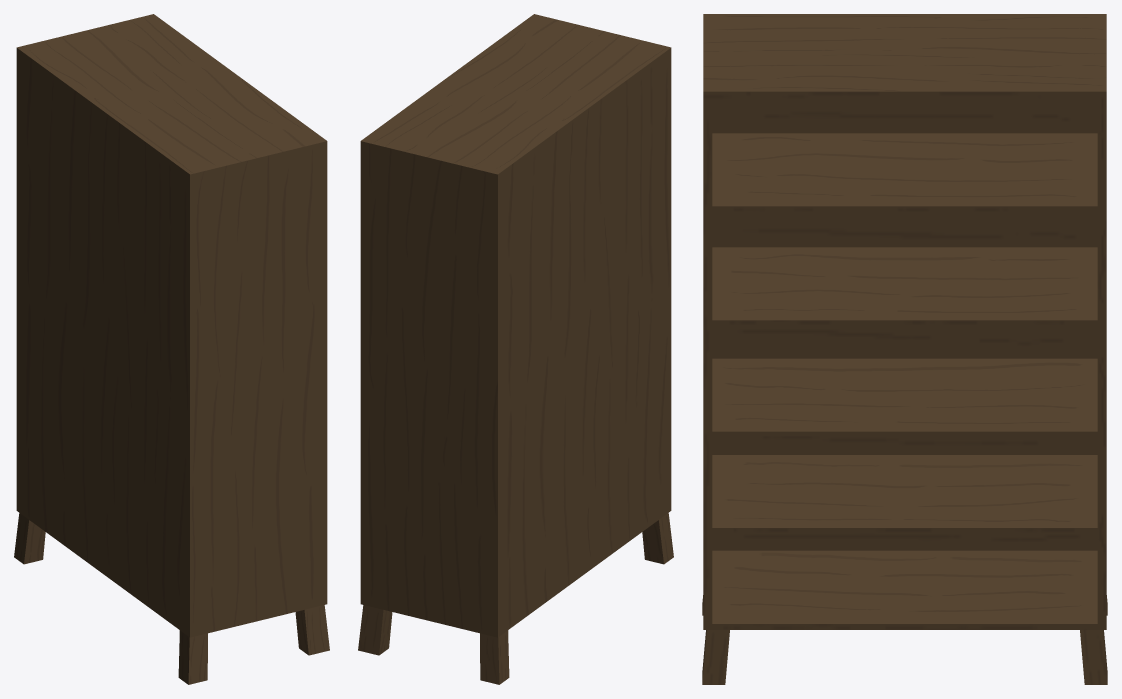
File: Wardrobe2.fbx
3 views of the same model, side by side, from view 1: azimuth 30°, elevation 25°; view 2: azimuth 150°, elevation 25°; view 3: azimuth 270°, elevation 25° (orthographic). The views are drawn at different scales.
Parts seen in each view (by area): view 1: wardrobe2; view 2: wardrobe2; view 3: wardrobe2.
Part boxes in pixels (x1,y1,x2,y2): wardrobe2: [14, 14, 329, 684]; wardrobe2: [358, 14, 673, 684]; wardrobe2: [702, 14, 1107, 684].
Size of the model in its own units: 64.85 by 223 by 139.
1 material, 1 textured.
